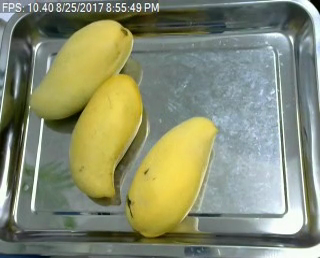Mango: (121, 115, 220, 236), (28, 16, 135, 121), (67, 72, 145, 198)
